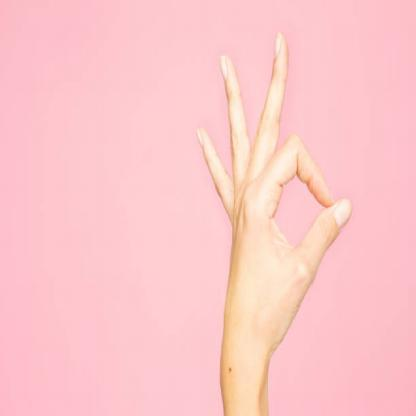ok: (192, 27, 356, 328)
